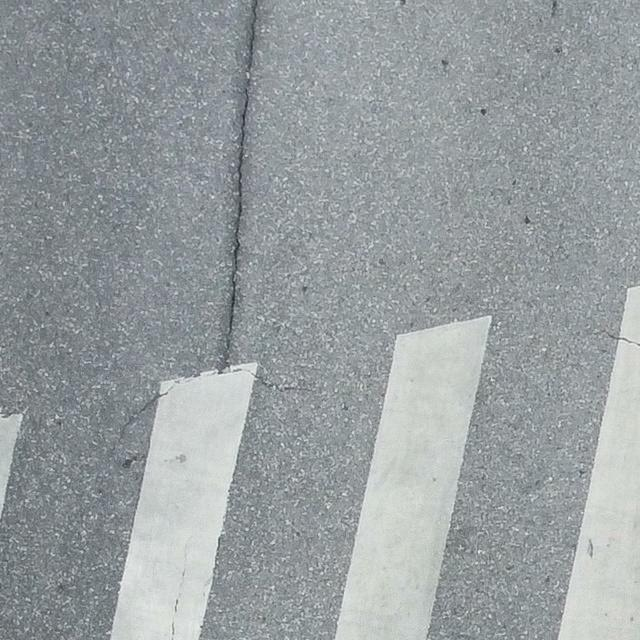LongitudinalCrack: (211, 1, 262, 380)
